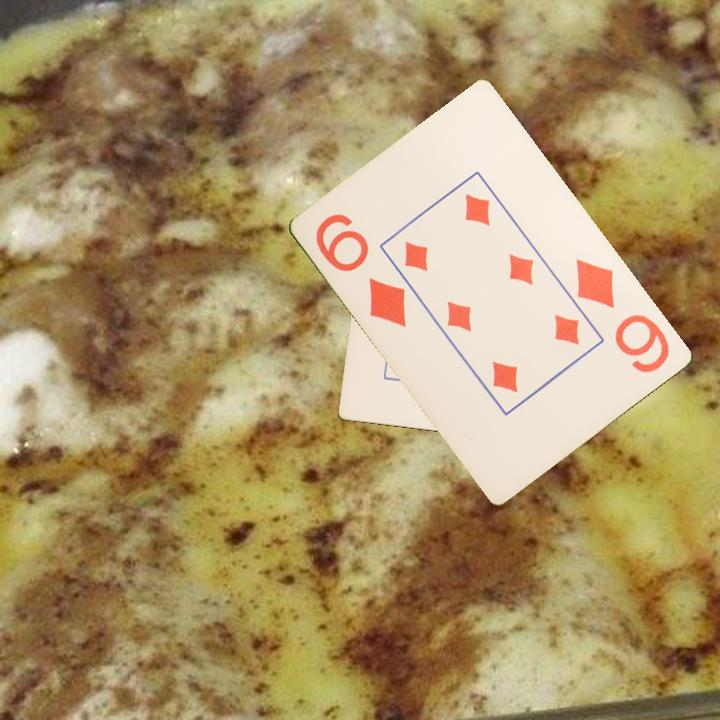6d: (572, 254, 673, 377), (312, 210, 410, 331)
